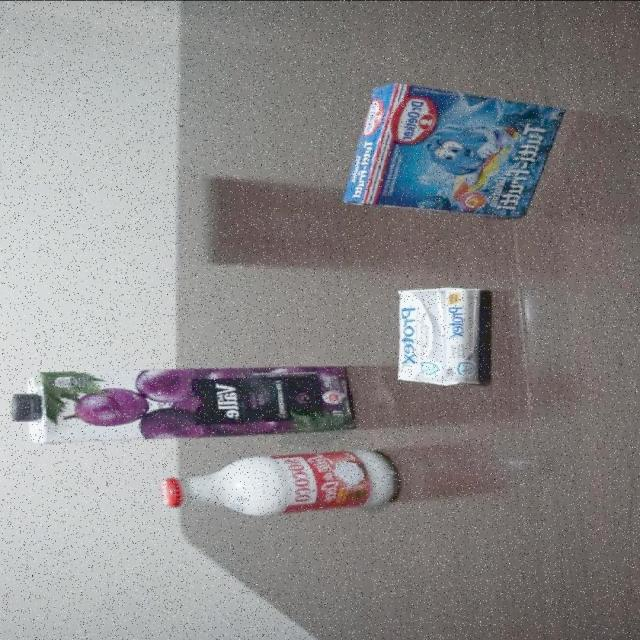CoconutMilk: (160, 447, 402, 517)
Gelatine: (340, 80, 567, 220)
Soap: (394, 285, 488, 388)
